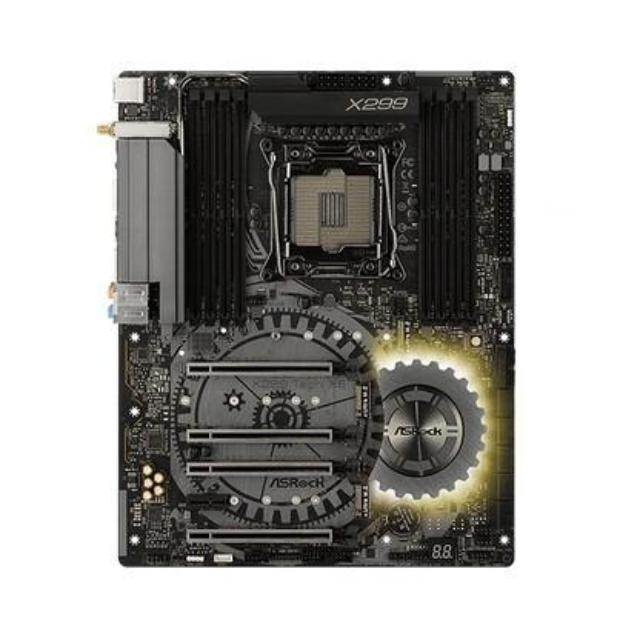Mainboard: (109, 65, 520, 572)
